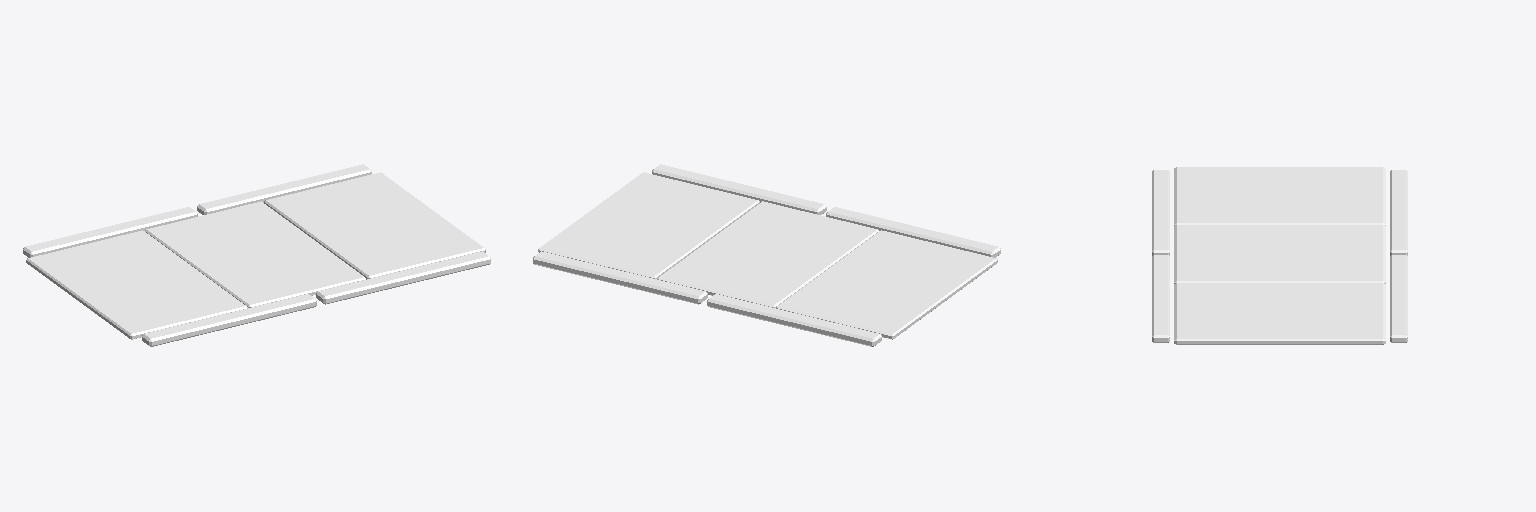
Rendered from stonePath.obj.
3 views of the same model, side by side, from view 1: azimuth 30°, elevation 25°; view 2: azimuth 150°, elevation 25°; view 3: azimuth 270°, elevation 25° (orthographic).
Visible parts, largest first — view 1: pCube8; view 2: pCube8; view 3: pCube8.
Part boxes in pixels (left/top/right/bottom): pCube8: left=23, top=164, right=490, bottom=346; pCube8: left=533, top=164, right=1000, bottom=346; pCube8: left=1152, top=167, right=1407, bottom=344.
Bounding box in the file's own units: 63.53 × 1.44 × 39.68.